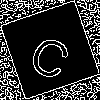C: (25, 25, 78, 83)
